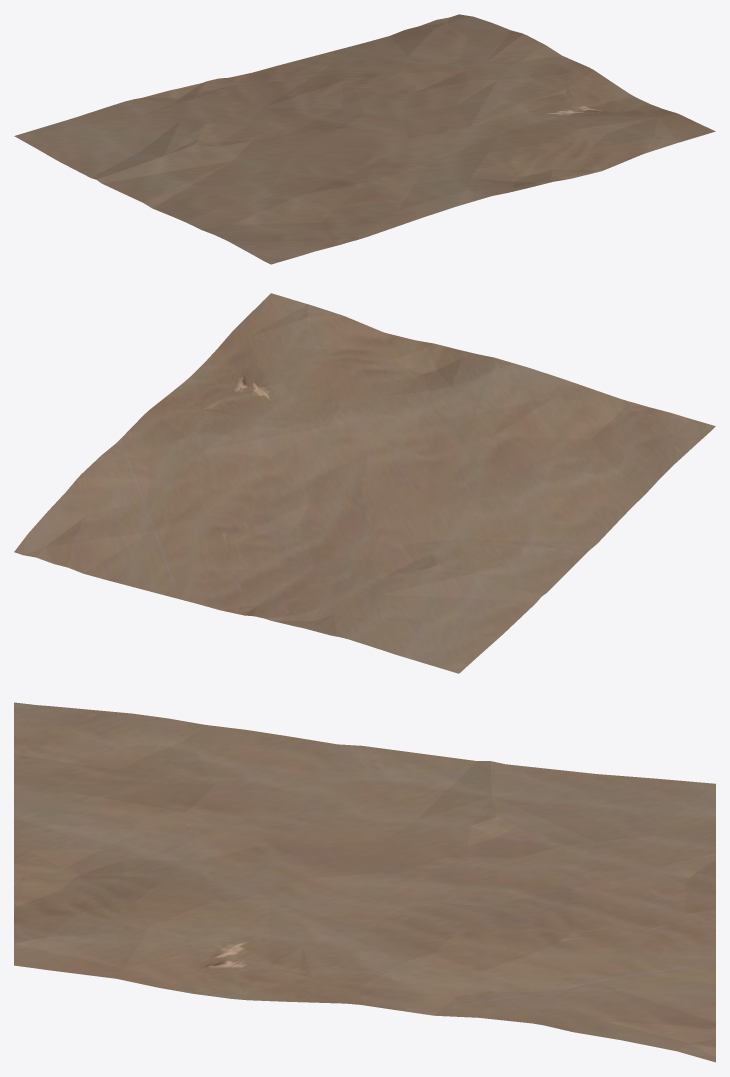
3 views of the same model, one above another, from view 1: azimuth 30°, elevation 25°; view 2: azimuth 150°, elevation 25°; view 3: azimuth 270°, elevation 25° (orthographic). The views are drawn at different scales.
Bounding box in the file's own units: 1.04 × 0.1886 × 1.04.
2 materials, 2 textured.
